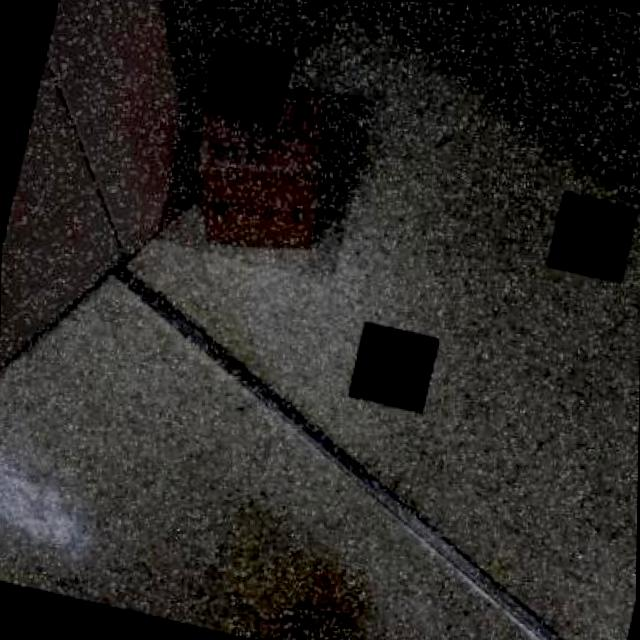box: (153, 60, 375, 283)
